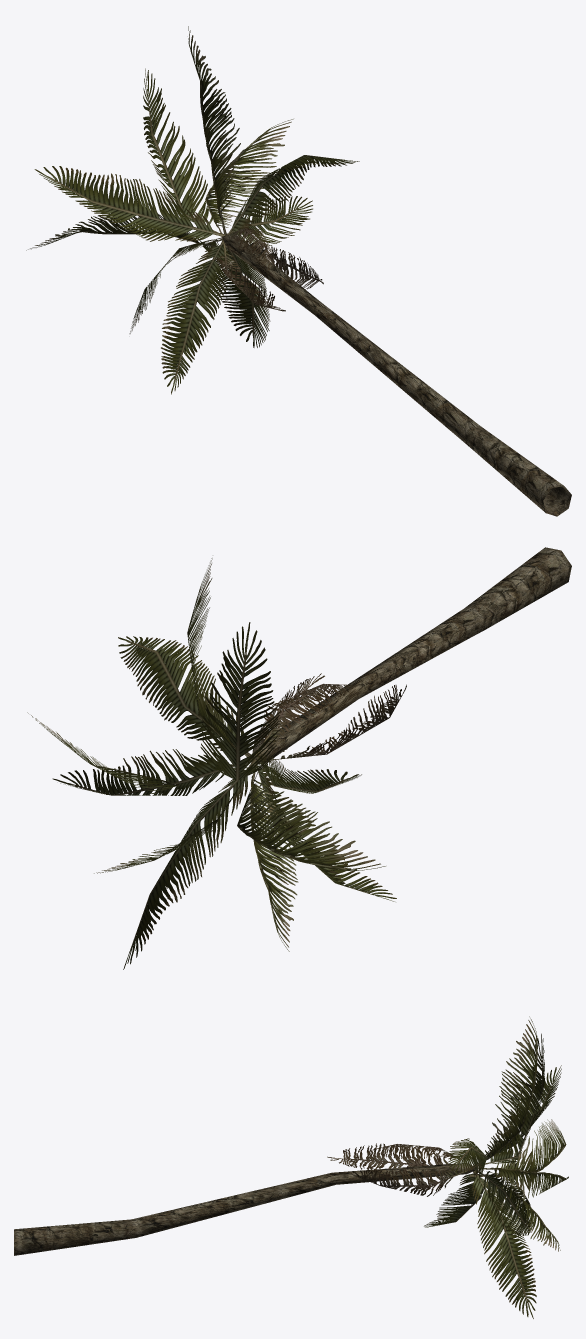
File: MEP_Palm_02_04.fbx
3 views of the same model, one above another, from view 1: azimuth 30°, elevation 25°; view 2: azimuth 150°, elevation 25°; view 3: azimuth 270°, elevation 25° (orthographic). The views are drawn at different scales.
Visible parts, largest first — view 1: MEP_Palm_Leafs_04, Palm_Trunk_04; view 2: MEP_Palm_Leafs_04, Palm_Trunk_04; view 3: MEP_Palm_Leafs_04, Palm_Trunk_04.
Part boxes in pixels (x1=…): MEP_Palm_Leafs_04: x1=26, y1=26, x2=359, y2=394; Palm_Trunk_04: x1=221, y1=234, x2=571, y2=516; MEP_Palm_Leafs_04: x1=27, y1=558, x2=406, y2=969; Palm_Trunk_04: x1=252, y1=547, x2=571, y2=763; MEP_Palm_Leafs_04: x1=327, y1=1016, x2=568, y2=1318; Palm_Trunk_04: x1=14, y1=1163, x2=474, y2=1255.
Bounding box in the file's own units: 6.84 × 7.96 × 13.91.
